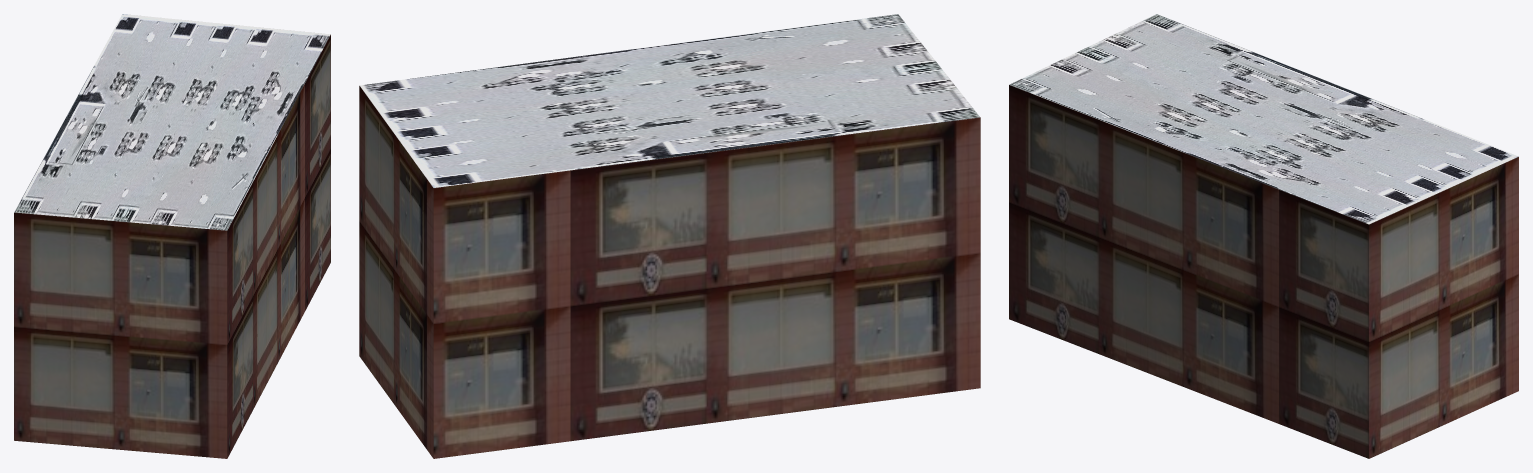
Rendered from ResTex__486.fbx.
3 renders of one model, left to right at view 1: azimuth 30°, elevation 25°; view 2: azimuth 150°, elevation 25°; view 3: azimuth 270°, elevation 25°, orthographic. The views are drawn at different scales.
Visible parts, largest first — view 1: CityEngineMaterial_13_m, CityEngineMaterial_8_m; view 2: CityEngineMaterial_13_m, CityEngineMaterial_8_m; view 3: CityEngineMaterial_13_m, CityEngineMaterial_8_m.
Boxes of the visible parts, box(x1,y1,x2,y2) form: CityEngineMaterial_13_m: box(14, 34, 330, 458); CityEngineMaterial_8_m: box(14, 14, 330, 230); CityEngineMaterial_13_m: box(359, 86, 980, 458); CityEngineMaterial_8_m: box(359, 14, 979, 187); CityEngineMaterial_13_m: box(1009, 85, 1518, 458); CityEngineMaterial_8_m: box(1009, 14, 1518, 224).
Size of the model in its own units: 11.55 by 6 by 11.83.
Materials: 2 (2 with a texture image).
